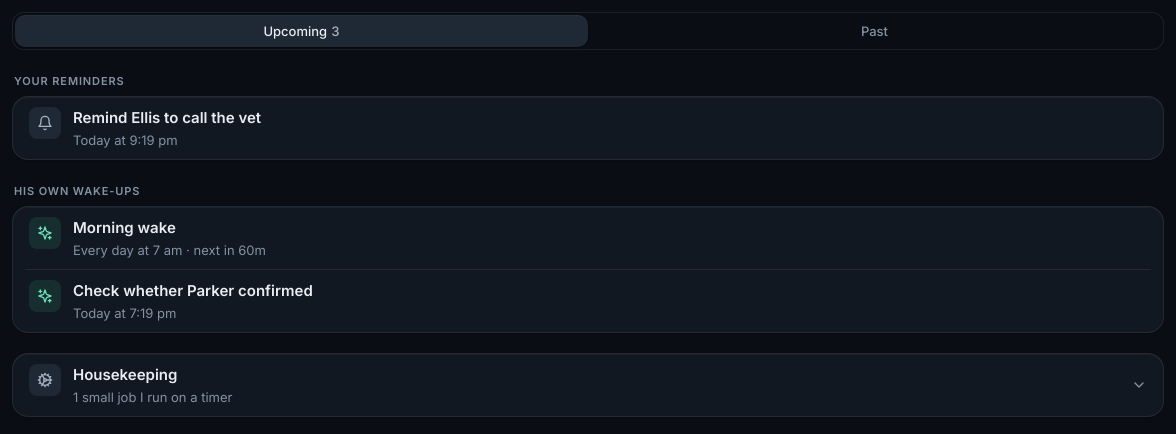
Test: EventsBrowser › keeps what already happened under Past, failures said plainly
Expected: the text "Remind Ellis to call the vet" is shown, [73,108,261,127]
Step 1. Click the radio button labelled "Past" → (874, 31), box [588,15,1161,47]
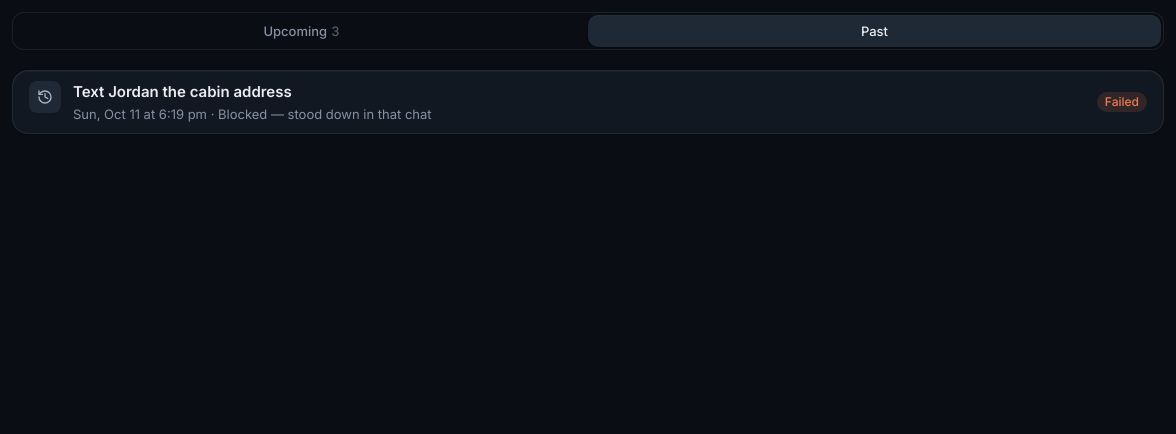
Now the text "Failed" is shown, box [1097,92,1147,112]
